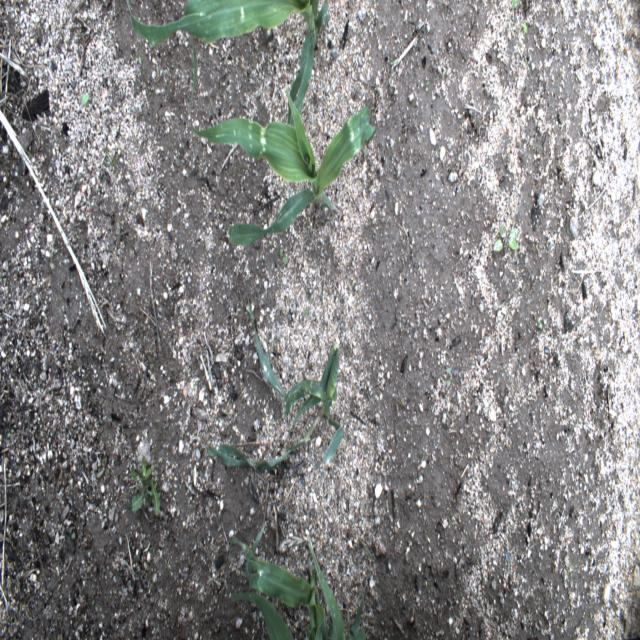crop: (126, 0, 331, 148), (187, 86, 377, 245), (202, 294, 345, 472), (226, 520, 366, 638)
weed: (120, 456, 162, 516), (492, 226, 521, 253), (81, 80, 100, 108), (103, 146, 122, 168), (279, 248, 287, 266), (446, 366, 452, 388)
